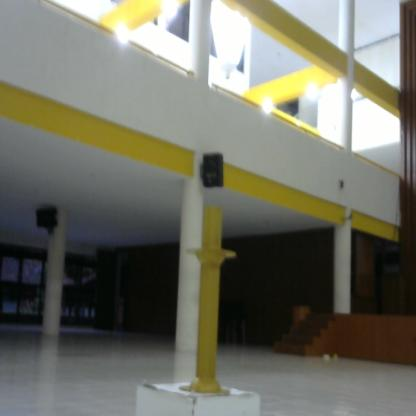pole: (177, 204, 243, 404)
